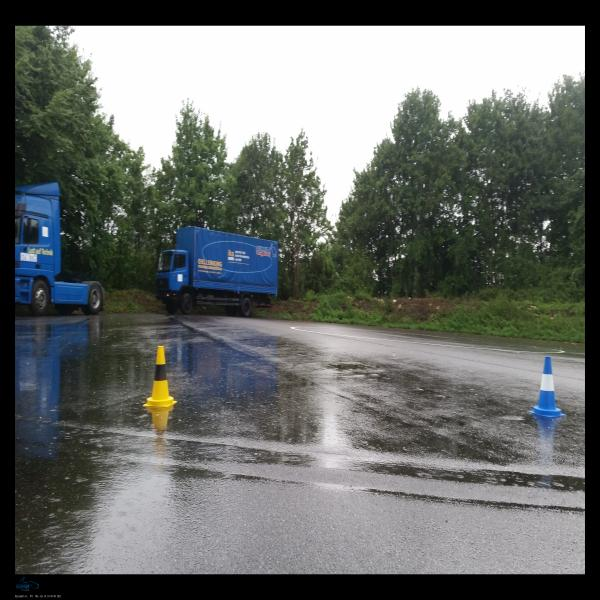blue_cone: (529, 357, 567, 418)
yellow_cone: (143, 346, 177, 407)
